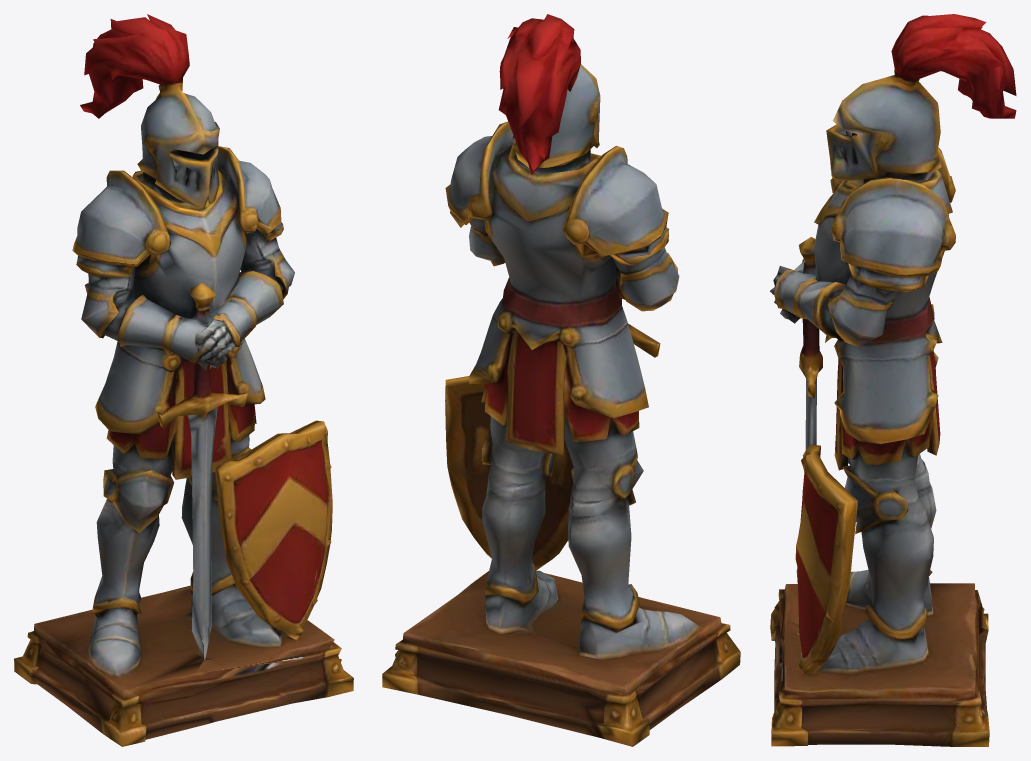
Rendered from armour-stand.glb.
3 renders of one model, left to right at view 1: azimuth 30°, elevation 25°; view 2: azimuth 150°, elevation 25°; view 3: azimuth 270°, elevation 25°, orthographic. The views are drawn at different scales.
Visible parts, largest first — view 1: armour-stand; view 2: armour-stand; view 3: armour-stand.
Part boxes in pixels (<box>): armour-stand: <box>14,14,353,746</box>; armour-stand: <box>382,14,740,746</box>; armour-stand: <box>770,14,1016,746</box>.
Bounding box in the file's own units: 1 × 2.5 × 0.8409.
Materials: 1 (1 with a texture image).
